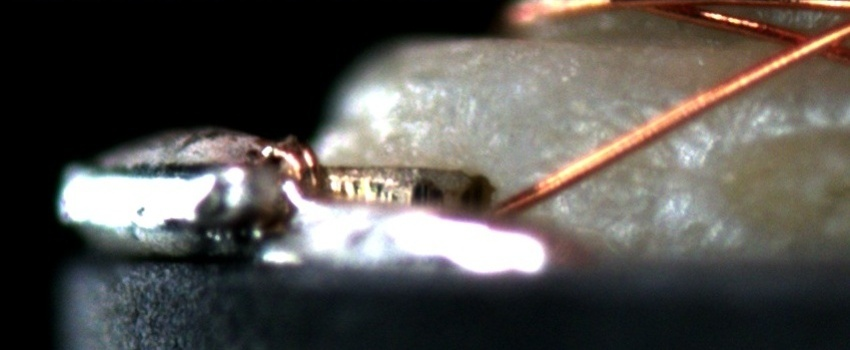CL: (771, 21, 845, 68)
DL: (526, 148, 705, 206), (685, 83, 849, 125)
TE: (244, 128, 331, 196)
